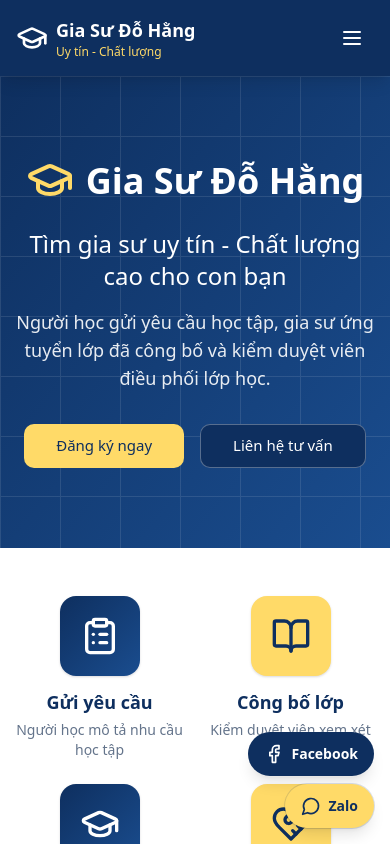
Test case: public product foundation › opens a Figma public route from the mobile menu and closes the menu
This screenshot has width=390, height=844.
Click the button named "Mở menu".
click(352, 38)  # box [330,16,374,60]
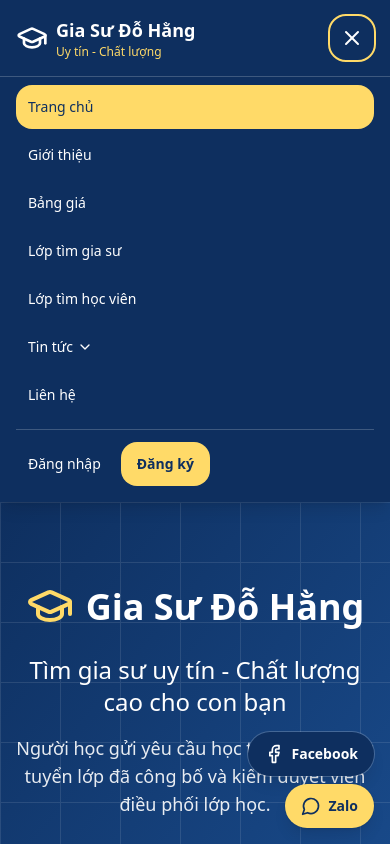
Click the link "Bảng giá".
click(57, 202)  # box [28,193,86,212]
(page scrolled)
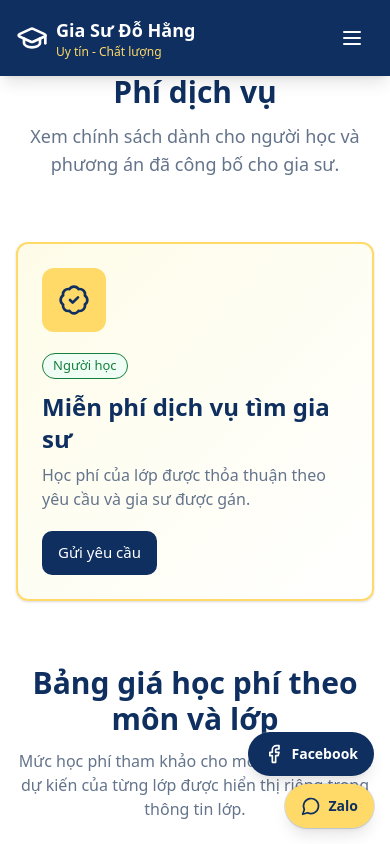
expect the heading "Phí dịch vụ" is shown: met, box [113,71,277,112]
expect the heading "Miễn phí dịch vụ tìm gia sư" is shown: met, box [42,390,348,454]
